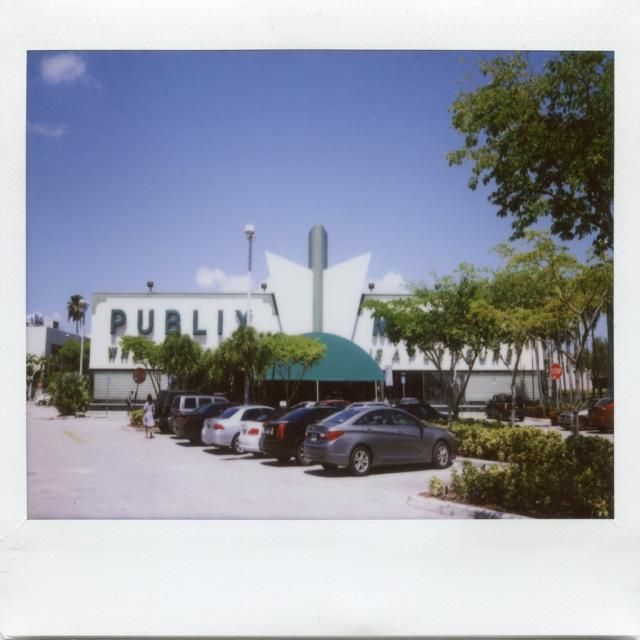car: (298, 398, 450, 481)
